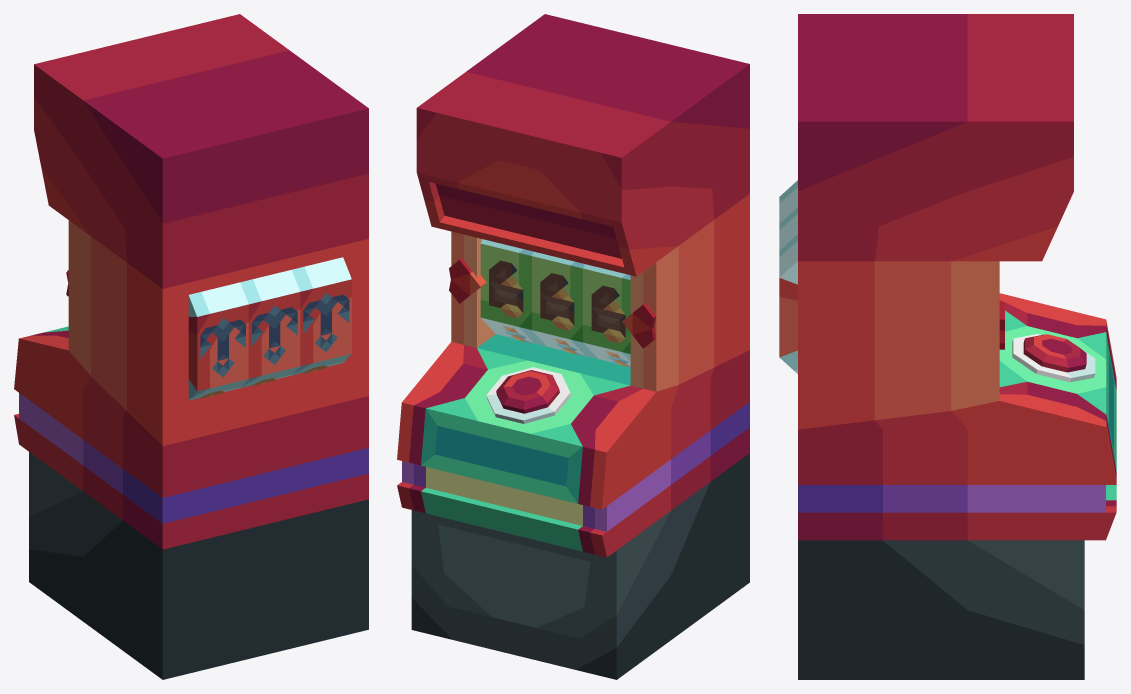
File: slotMachine.fbx
3 views of the same model, side by side, from view 1: azimuth 30°, elevation 25°; view 2: azimuth 150°, elevation 25°; view 3: azimuth 270°, elevation 25° (orthographic). The views are drawn at different scales.
Parts seen in each view (by area): view 1: machine, wheelmodel_2, wheelmodel_1, wheelmodel, anchor, anchor_1, anchor_2; view 2: machine, wheelmodel, wheelmodel_1, wheelmodel_2, button, buttonframe, chest_1, chest, chest_2, mesh_1, mesh; view 3: machine, wheelmodel, button, buttonframe, wheelmodel_2, wheelmodel_1.
Boxes of the visible parts, left/top/right/bottom form: machine: left=14, top=14, right=368, bottom=679; wheelmodel_2: left=188, top=282, right=248, bottom=400; wheelmodel_1: left=240, top=270, right=300, bottom=387; wheelmodel: left=292, top=257, right=351, bottom=375; anchor: left=303, top=293, right=349, bottom=352; anchor_1: left=252, top=305, right=297, bottom=364; anchor_2: left=200, top=318, right=245, bottom=377; machine: left=397, top=14, right=749, bottom=679; wheelmodel: left=480, top=239, right=546, bottom=346; wheelmodel_1: left=532, top=251, right=597, bottom=358; wheelmodel_2: left=583, top=264, right=630, bottom=365; button: left=496, top=370, right=559, bottom=413; buttonframe: left=486, top=367, right=570, bottom=423; chest_1: left=540, top=273, right=574, bottom=330; chest: left=489, top=260, right=523, bottom=318; chest_2: left=591, top=285, right=625, bottom=342; mesh_1: left=449, top=258, right=486, bottom=303; mesh: left=622, top=303, right=655, bottom=348; machine: left=798, top=14, right=1116, bottom=679; wheelmodel: left=779, top=234, right=797, bottom=373; button: left=1023, top=334, right=1086, bottom=372; buttonframe: left=1012, top=334, right=1095, bottom=382; wheelmodel_2: left=779, top=180, right=797, bottom=223; wheelmodel_1: left=779, top=207, right=797, bottom=250.
Bounding box in the file's own units: 150 × 362 × 199.
Materials: 11 (11 with a texture image).
